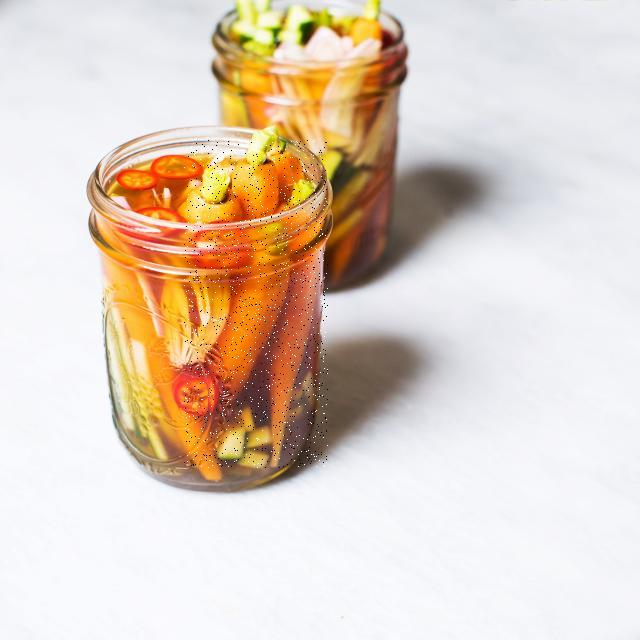carrots: (184, 140, 328, 468)
